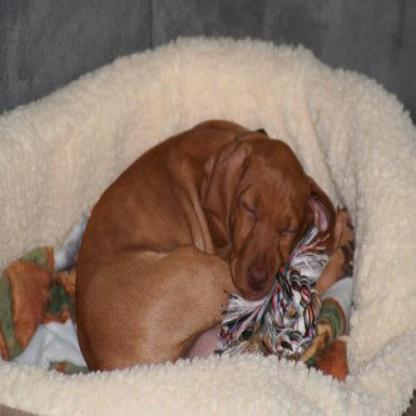vizsla: (72, 115, 335, 371)
